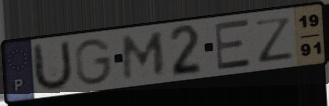2: (167, 22, 205, 80)
E: (213, 17, 254, 72)
G: (73, 37, 115, 87)
M: (122, 30, 167, 82)
U: (32, 38, 75, 94)
Z: (252, 14, 295, 65)
